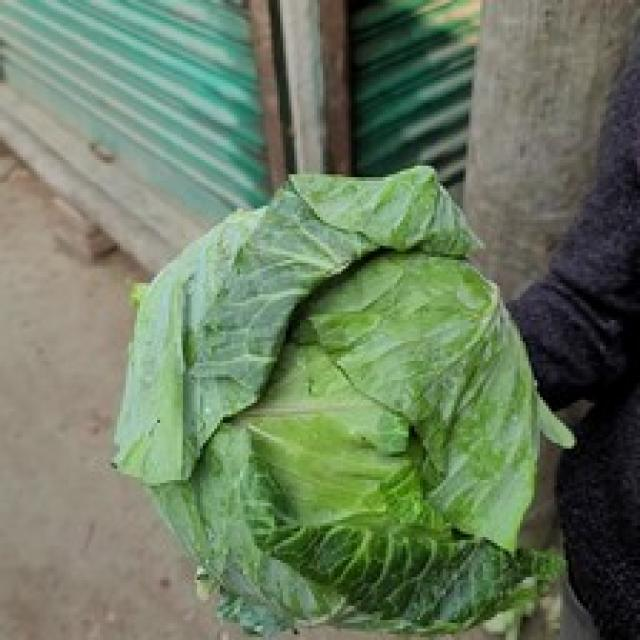cabbage: (114, 169, 574, 633)
carrot: (114, 169, 571, 631)
